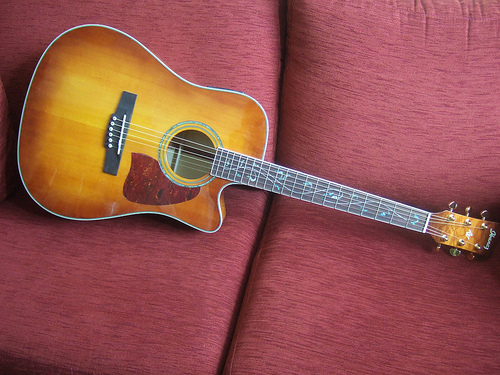guitar: (16, 24, 500, 260)
